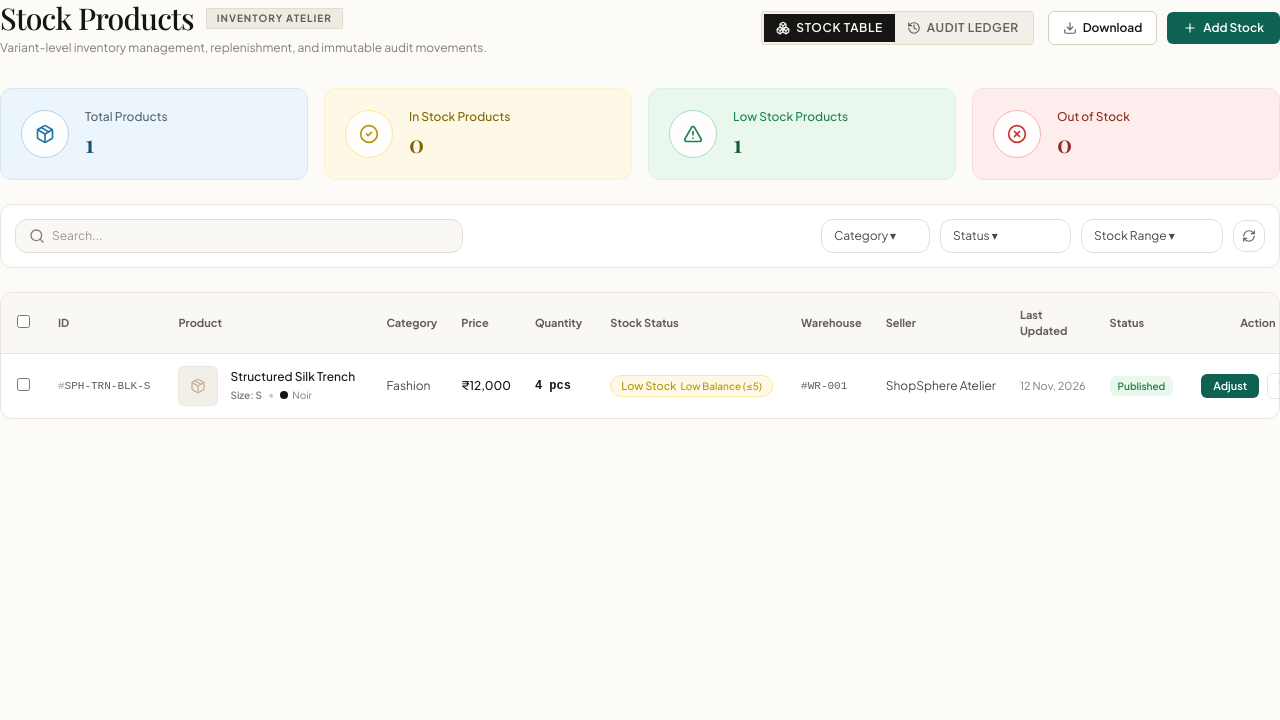
Frontend Admin Suite (/admin/*) › AdminInventoryPage (/admin/inventory) › renders variant-level stock overview and opens adjust modal
Expected: the text "SPH-TRN-BLK-S" is shown, [65, 380, 150, 392]
Expected: the text "Low Balance (≤5)" is shown, [680, 378, 762, 394]
// Click Adjust button
Click the button "Adjust" at (1230, 386), box [1201, 374, 1259, 398]
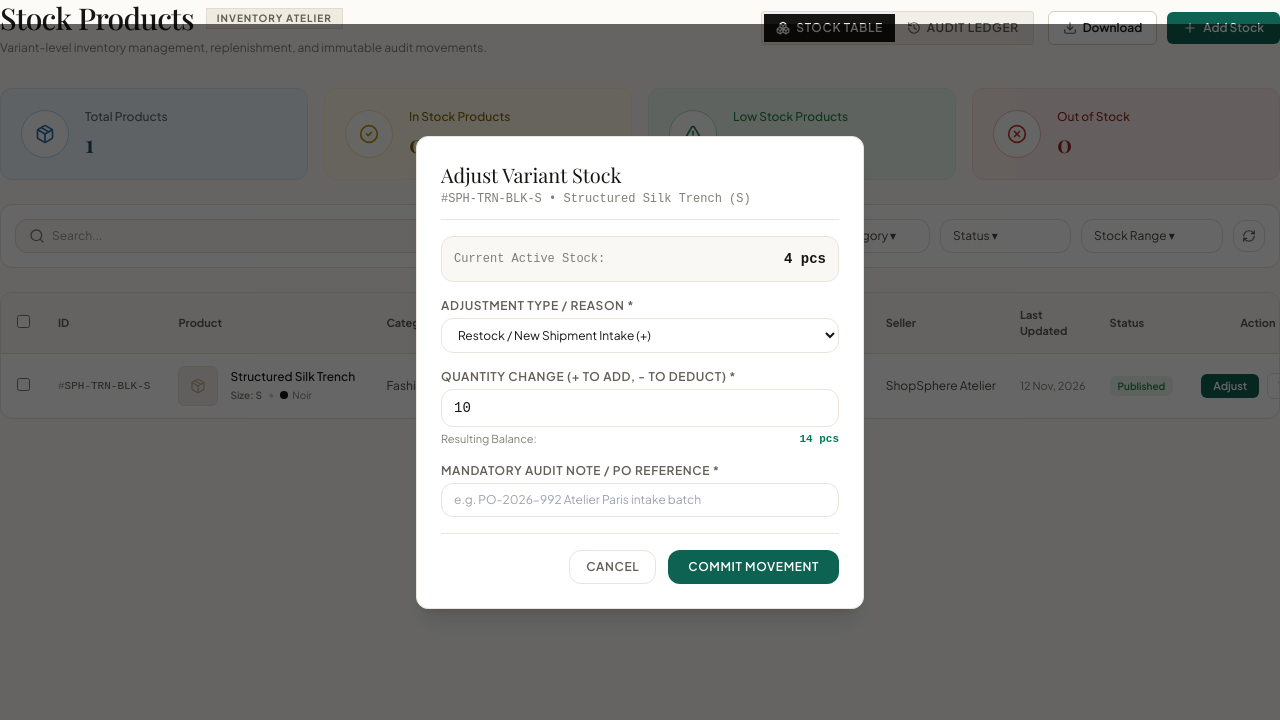
Expected: the heading "Adjust Variant Stock" is shown, [441, 160, 622, 188]
Expected: the text "Current Active Stock:" is shown, [454, 250, 605, 266]
